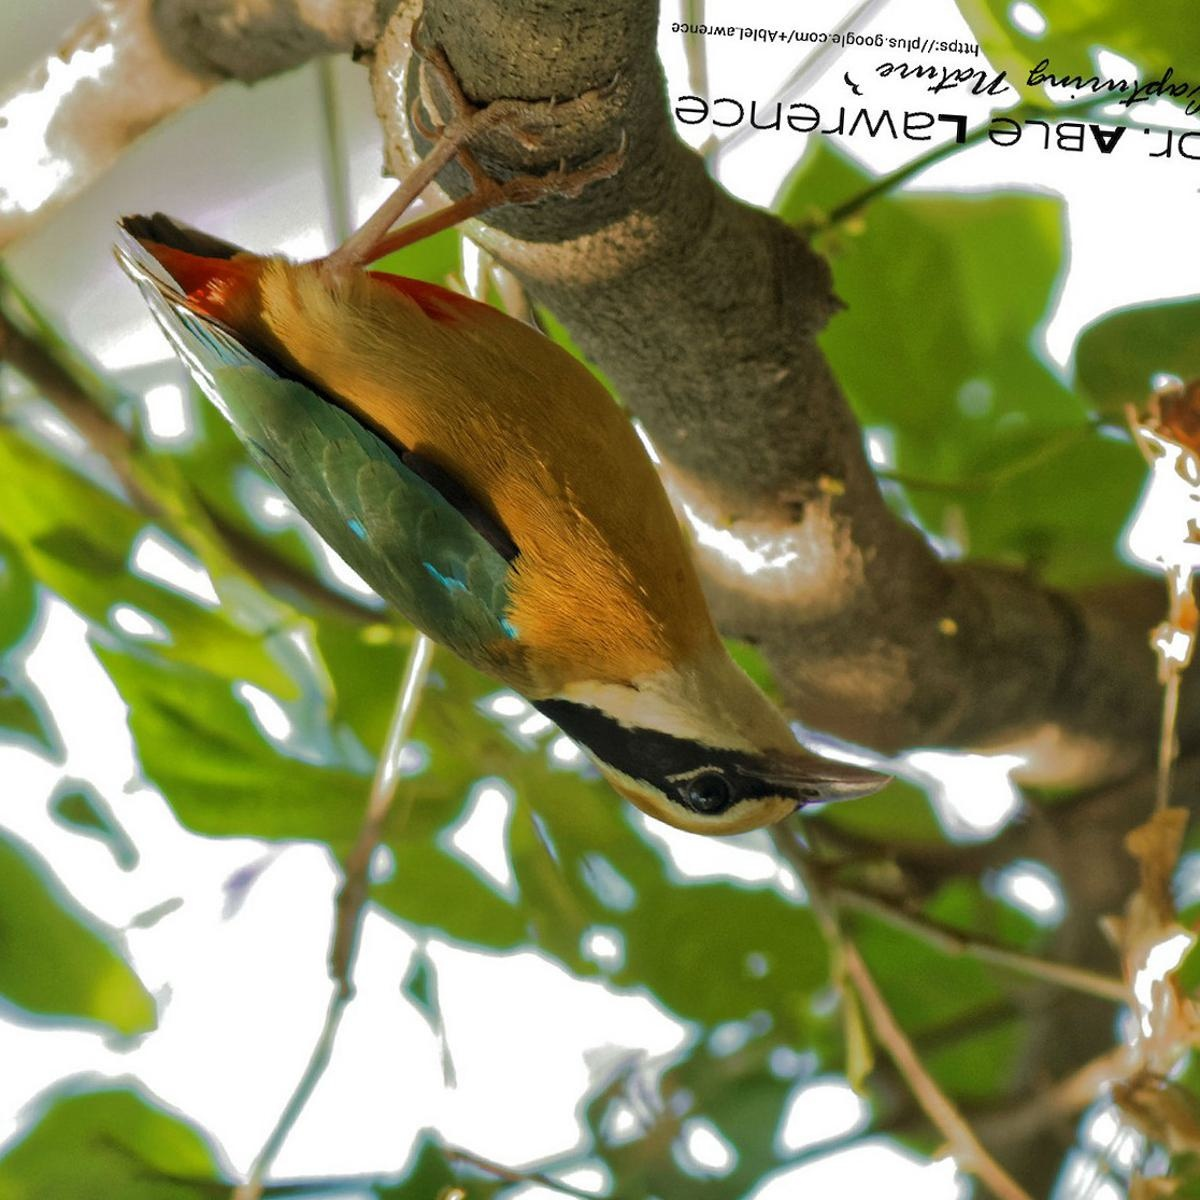pitta: (125, 184, 925, 860)
